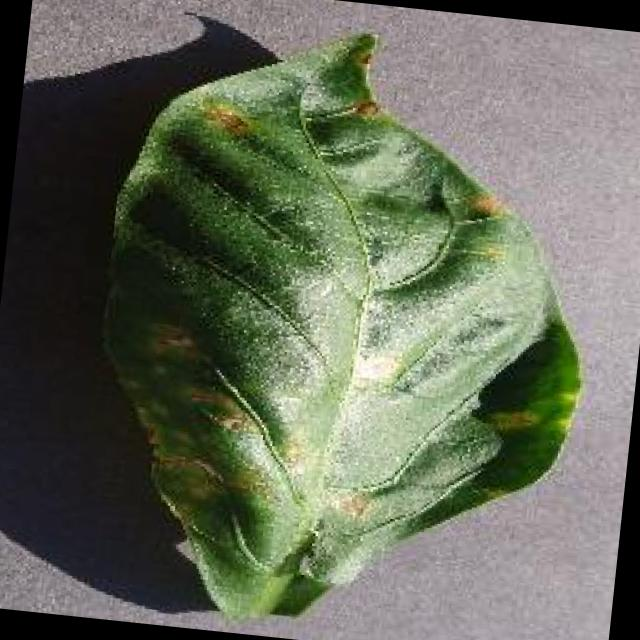Chilli_Bacterial_Spot: (64, 1, 620, 640), (346, 341, 406, 394), (477, 398, 542, 443), (196, 98, 255, 142), (148, 320, 202, 365), (326, 482, 376, 526), (342, 24, 384, 70), (464, 184, 507, 221), (346, 92, 381, 123)
